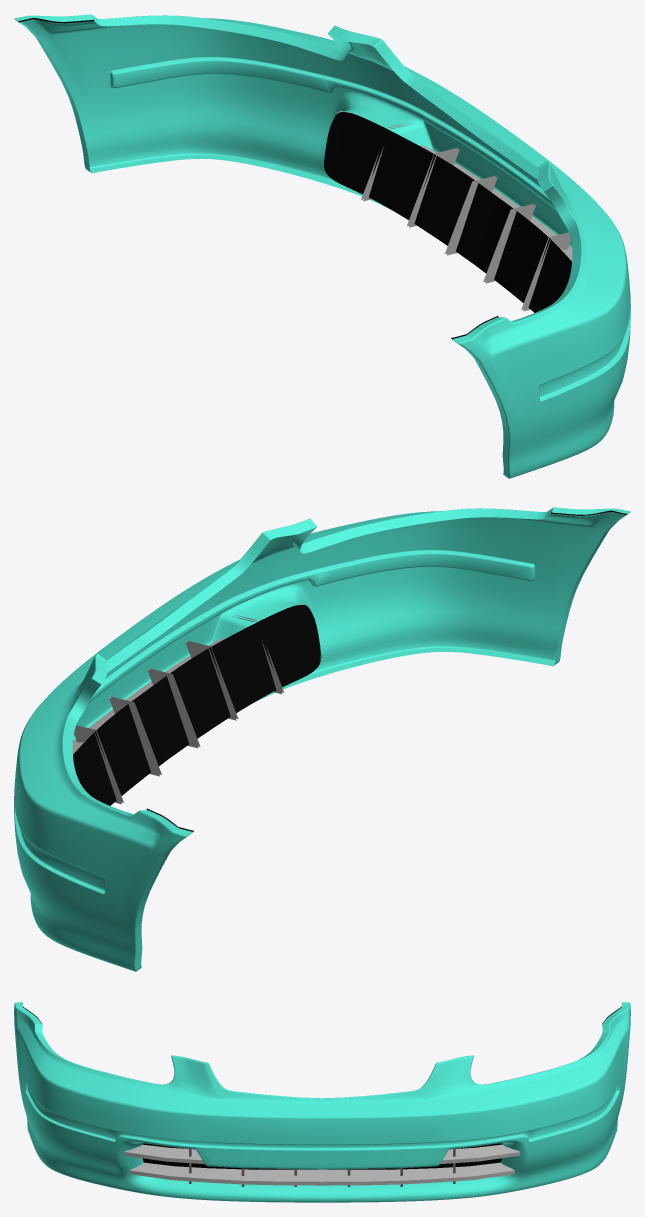
3 views of the same model, one above another, from view 1: azimuth 30°, elevation 25°; view 2: azimuth 150°, elevation 25°; view 3: azimuth 270°, elevation 25° (orthographic). The views are drawn at different scales.
Visible parts, largest first — view 1: H025_10_021G_C_1_DaS_H025_10_021G_C, H025_10_021G_C_H025_10_021G_C_3_D, H025_10_021G_C_1_DaS_H025_10_021G_C_E, H025_10_021G_C_H025_10_021G_C_2_DaS; view 2: H025_10_021G_C_1_DaS_H025_10_021G_C, H025_10_021G_C_H025_10_021G_C_3_D, H025_10_021G_C_1_DaS_H025_10_021G_C_E, H025_10_021G_C_H025_10_021G_C_2_DaS; view 3: H025_10_021G_C_1_DaS_H025_10_021G_C, H025_10_021G_C_H025_10_021G_C_2_DaS, H025_10_021G_C_1_DaS_H025_10_021G_C_E, H025_10_021G_C_H025_10_021G_C_3_D.
Part boxes in pixels (x1,y1,x2,y2): H025_10_021G_C_1_DaS_H025_10_021G_C: [14, 14, 630, 478]; H025_10_021G_C_H025_10_021G_C_3_D: [324, 112, 571, 312]; H025_10_021G_C_1_DaS_H025_10_021G_C_E: [109, 57, 630, 401]; H025_10_021G_C_H025_10_021G_C_2_DaS: [337, 110, 572, 311]; H025_10_021G_C_1_DaS_H025_10_021G_C: [14, 507, 630, 971]; H025_10_021G_C_H025_10_021G_C_3_D: [73, 605, 321, 805]; H025_10_021G_C_1_DaS_H025_10_021G_C_E: [14, 550, 535, 894]; H025_10_021G_C_H025_10_021G_C_2_DaS: [72, 603, 308, 804]; H025_10_021G_C_1_DaS_H025_10_021G_C: [14, 1002, 630, 1202]; H025_10_021G_C_H025_10_021G_C_2_DaS: [124, 1144, 519, 1186]; H025_10_021G_C_1_DaS_H025_10_021G_C_E: [25, 1081, 619, 1150]; H025_10_021G_C_H025_10_021G_C_3_D: [142, 1143, 502, 1169].
Size of the model in its own units: 64.55 by 38.72 by 170.
